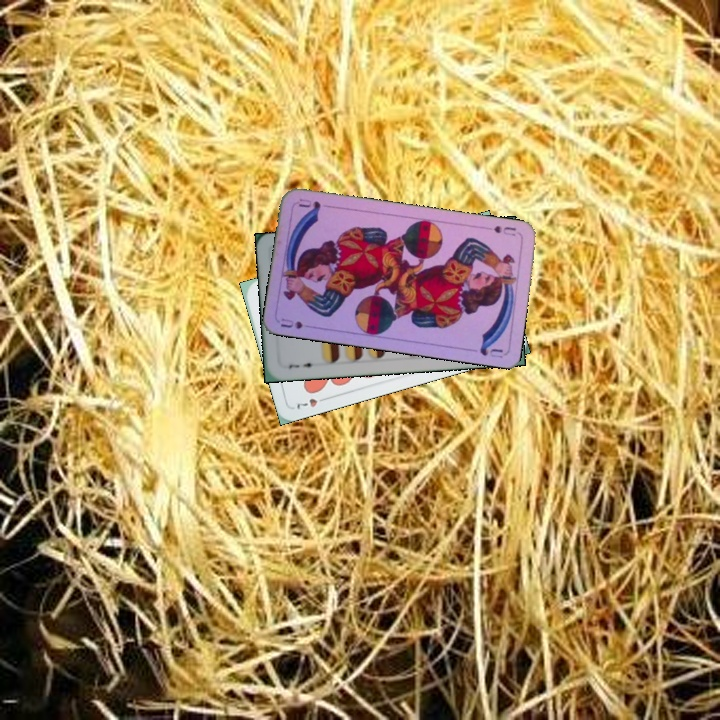E7: (285, 359, 319, 371)
H7: (291, 393, 330, 412)
SU: (277, 314, 318, 331), (490, 221, 522, 239)
